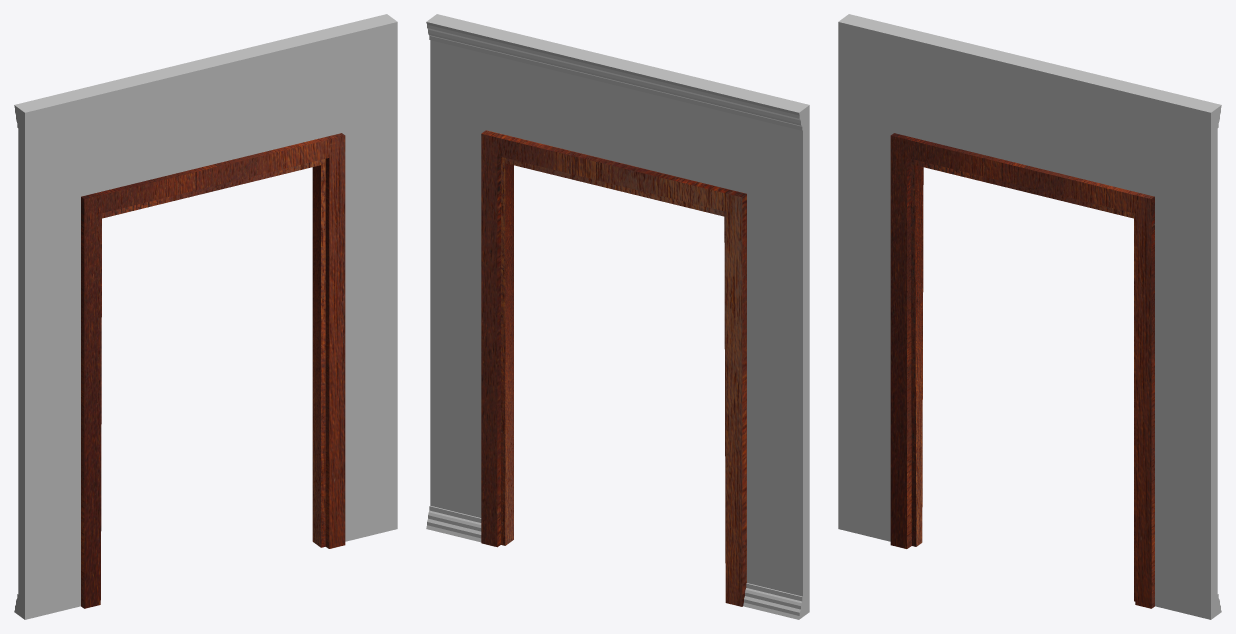
File: DoorWall_Outside.fbx
3 renders of one model, left to right at view 1: azimuth 30°, elevation 25°; view 2: azimuth 150°, elevation 25°; view 3: azimuth 330°, elevation 25°, orthographic.
Visible parts, largest first — view 1: WallMark_Outside, DoorMark_Outside; view 2: WallMark_Outside, DoorMark_Outside; view 3: WallMark_Outside, DoorMark_Outside.
Boxes of the visible parts, left/top/right/bottom form: WallMark_Outside: left=14, top=14, right=397, bottom=619; DoorMark_Outside: left=81, top=133, right=345, bottom=608; WallMark_Outside: left=426, top=14, right=809, bottom=619; DoorMark_Outside: left=481, top=130, right=746, bottom=606; WallMark_Outside: left=838, top=14, right=1221, bottom=619; DoorMark_Outside: left=890, top=133, right=1154, bottom=608.
Bounding box in the file's own units: 200 × 260 × 14.07.
